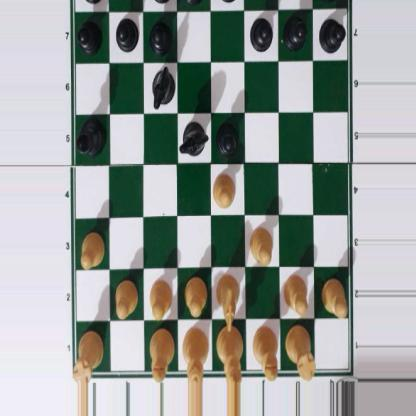black-bishop: (75, 117, 106, 156)
black-king: (216, 0, 242, 4)
black-knight: (150, 65, 174, 106), (179, 120, 207, 155)
black-pawn: (319, 15, 344, 53), (215, 118, 240, 156), (77, 18, 102, 52), (284, 14, 307, 50), (250, 14, 273, 50), (115, 16, 137, 52), (149, 17, 171, 53)
black-queen: (180, 0, 208, 5)
black-rook: (72, 0, 106, 3)
white-bishop: (251, 326, 278, 379), (149, 325, 173, 381)
white-king: (216, 321, 243, 382)
white-knight: (215, 271, 240, 331)
white-pawn: (283, 271, 310, 314), (248, 224, 273, 265), (321, 276, 347, 315), (113, 277, 138, 317), (78, 230, 104, 268), (183, 274, 207, 315), (148, 277, 171, 319), (212, 170, 235, 207)
white-queen: (181, 326, 209, 384)
white-rook: (74, 325, 102, 384), (285, 328, 314, 377)
